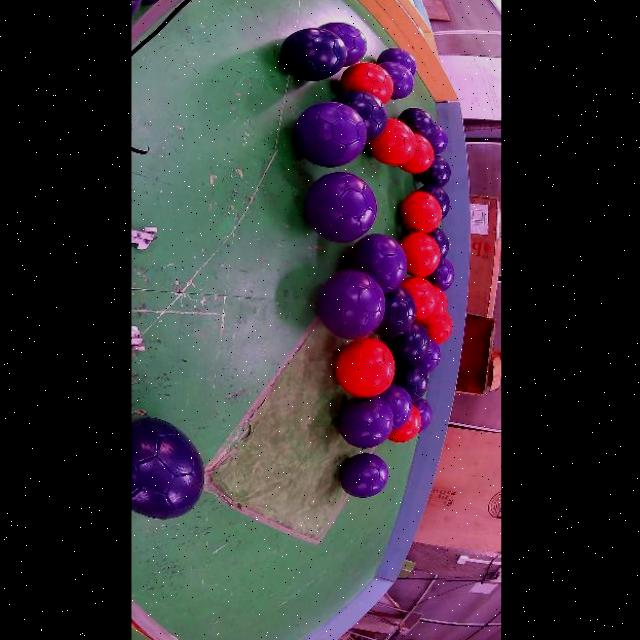B: (131, 417, 204, 520), (280, 28, 347, 82), (335, 91, 388, 143), (383, 321, 429, 366), (376, 286, 416, 337), (393, 363, 428, 402), (398, 107, 434, 139), (416, 155, 451, 187), (420, 184, 450, 218), (428, 228, 450, 259)
P: (305, 172, 377, 242), (293, 102, 366, 168), (317, 271, 386, 340), (347, 233, 407, 294), (338, 397, 393, 448), (339, 453, 388, 497), (321, 22, 368, 66), (377, 48, 416, 100), (379, 384, 413, 431), (380, 62, 414, 100), (425, 259, 455, 291), (418, 339, 441, 374), (413, 398, 432, 433), (429, 124, 447, 155)
R: (335, 337, 395, 397), (366, 119, 416, 165), (341, 62, 393, 103), (400, 232, 441, 277), (401, 191, 442, 233), (401, 277, 437, 321), (398, 133, 434, 174), (388, 406, 422, 443), (420, 286, 447, 325), (425, 313, 452, 344)
